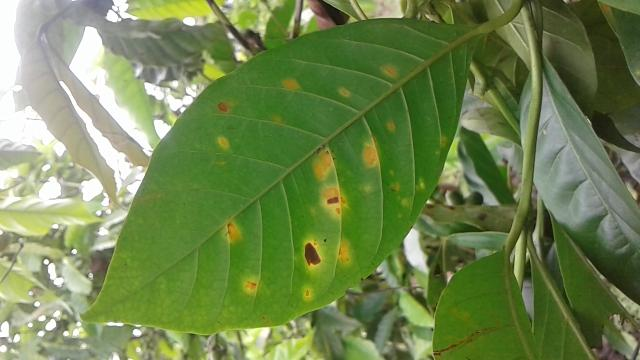rust_level_2: (94, 12, 486, 333)
